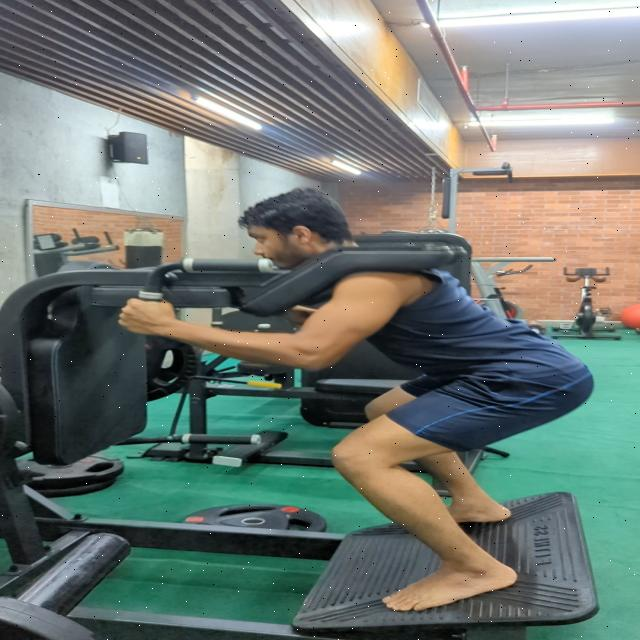Normal_SquatsWithBarbell: (0, 145, 622, 640)
